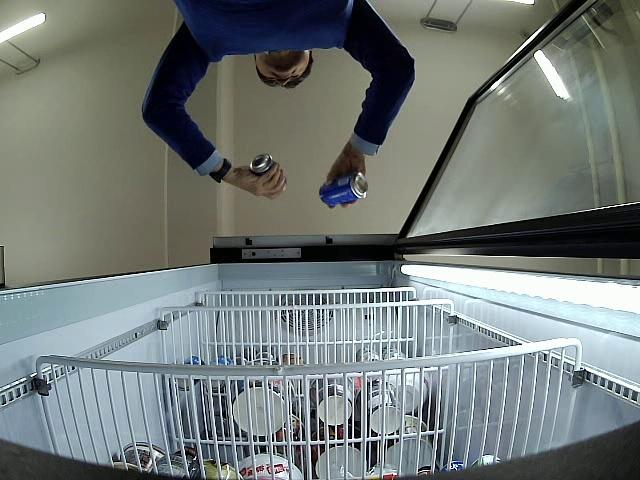00_hand: (232, 162, 286, 200), (327, 157, 366, 208)
13_pocariSweat: (319, 171, 368, 206)
